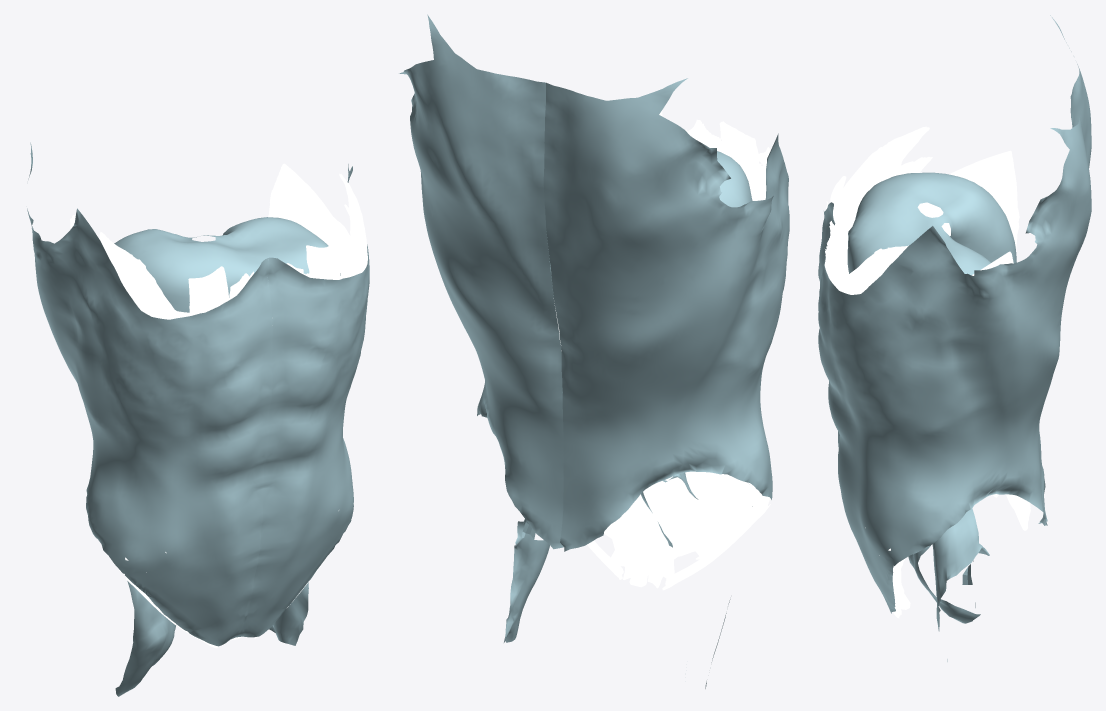
File: abdominal-part-of-muscular-system.glb
3 views of the same model, side by side, from view 1: azimuth 30°, elevation 25°; view 2: azimuth 150°, elevation 25°; view 3: azimuth 270°, elevation 25° (orthographic). The views are drawn at different scales.
Visible parts, largest first — view 1: Investing abdominal fascia.r, Investing abdominal fascia.l, Diaphragmatic fascia, Transversus abdominis muscle.l, Iliopsoas fascia.r, External abdominal oblique muscle.r, Rectus abdominis muscle.r, External abdominal oblique muscle.l, Iliopsoas fascia.l, Rectus abdominis muscle.l; view 2: Investing abdominal fascia.r, Investing abdominal fascia.l, Rectus abdominis muscle.r, Transversus abdominis muscle.r, Iliopsoas fascia.l, Rectus abdominis muscle.l, Diaphragmatic fascia, Inguinal ligament.r, Linea alba, External abdominal oblique muscle.r; view 3: Investing abdominal fascia.l, Diaphragmatic fascia, External abdominal oblique muscle.r, Transversus abdominis muscle.r, Iliopsoas fascia.l, Investing abdominal fascia.r, External abdominal oblique muscle.l, Iliopsoas fascia.r, Rectus abdominis muscle.l, Transversus abdominis muscle.l, Rectus abdominis muscle.r, Quadratus lumborum muscle.l.
Part boxes in pixels (x1=…): Investing abdominal fascia.r: x1=27, y1=142, x2=272, y2=646; Investing abdominal fascia.l: x1=236, y1=164, x2=369, y2=637; Diaphragmatic fascia: x1=114, y1=217, x2=340, y2=312; Transversus abdominis muscle.l: x1=248, y1=163, x2=351, y2=637; Iliopsoas fascia.r: x1=115, y1=581, x2=175, y2=696; External abdominal oblique muscle.r: x1=99, y1=232, x2=253, y2=572; Rectus abdominis muscle.r: x1=188, y1=266, x2=248, y2=313; External abdominal oblique muscle.l: x1=286, y1=173, x2=367, y2=510; Iliopsoas fascia.l: x1=269, y1=582, x2=308, y2=645; Rectus abdominis muscle.l: x1=287, y1=243, x2=341, y2=279; Investing abdominal fascia.r: x1=543, y1=78, x2=789, y2=551; Investing abdominal fascia.l: x1=399, y1=14, x2=563, y2=549; Rectus abdominis muscle.r: x1=645, y1=121, x2=758, y2=576; Transversus abdominis muscle.r: x1=647, y1=474, x2=768, y2=588; Iliopsoas fascia.l: x1=504, y1=519, x2=549, y2=642; Rectus abdominis muscle.l: x1=604, y1=98, x2=647, y2=570; Diaphragmatic fascia: x1=547, y1=151, x2=752, y2=295; Inguinal ligament.r: x1=662, y1=497, x2=771, y2=590; Linea alba: x1=629, y1=482, x2=658, y2=587; External abdominal oblique muscle.r: x1=688, y1=119, x2=770, y2=559; Investing abdominal fascia.l: x1=818, y1=115, x2=1091, y2=613; Diaphragmatic fascia: x1=849, y1=172, x2=1016, y2=275; External abdominal oblique muscle.r: x1=825, y1=126, x2=932, y2=240; Transversus abdominis muscle.r: x1=843, y1=150, x2=1019, y2=251; Iliopsoas fascia.l: x1=932, y1=508, x2=989, y2=661; Investing abdominal fascia.r: x1=818, y1=15, x2=1091, y2=523; External abdominal oblique muscle.l: x1=824, y1=221, x2=908, y2=555; Iliopsoas fascia.r: x1=908, y1=545, x2=980, y2=623; Rectus abdominis muscle.l: x1=829, y1=225, x2=904, y2=604; Transversus abdominis muscle.l: x1=842, y1=232, x2=1013, y2=614; Rectus abdominis muscle.r: x1=830, y1=176, x2=904, y2=592; Quadratus lumborum muscle.l: x1=1006, y1=494, x2=1030, y2=530.
Size of the model in its own units: 0.3415 by 0.6153 by 0.2572.
